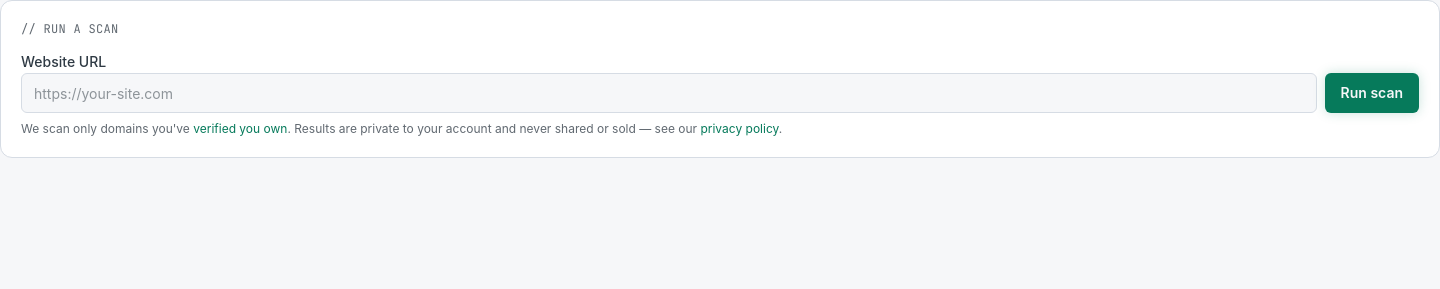
RunScanForm › links an unverified-domain failure straight to domain verification
The width and height of the screenshot is (1440, 289).
Type "https://example.com" into the field labelled "Website URL" at (669, 93), box [21, 73, 1317, 113]
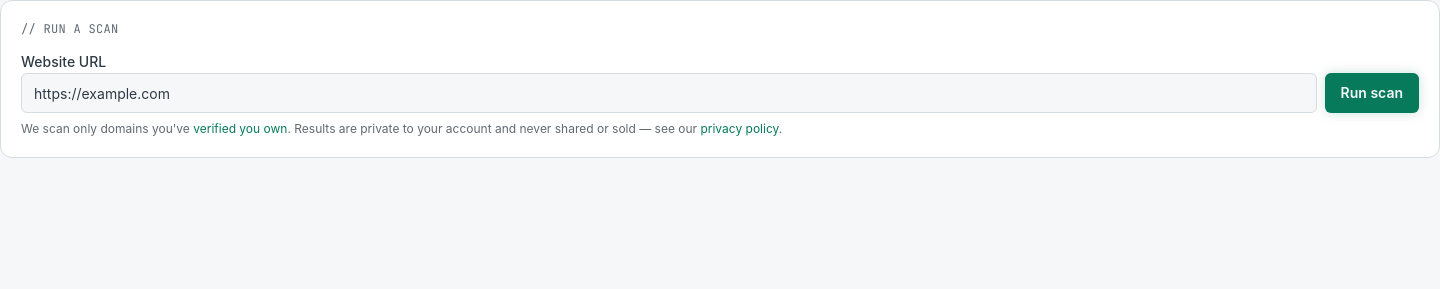
Click the button "Run scan" at (1372, 93), box [1325, 73, 1419, 113]
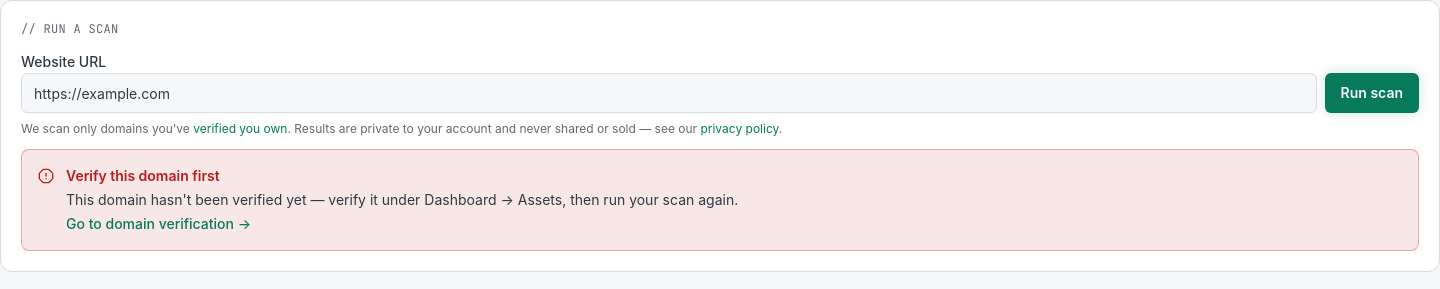
Expected: the text "Verify this domain first" is shown, [66, 167, 220, 184]
